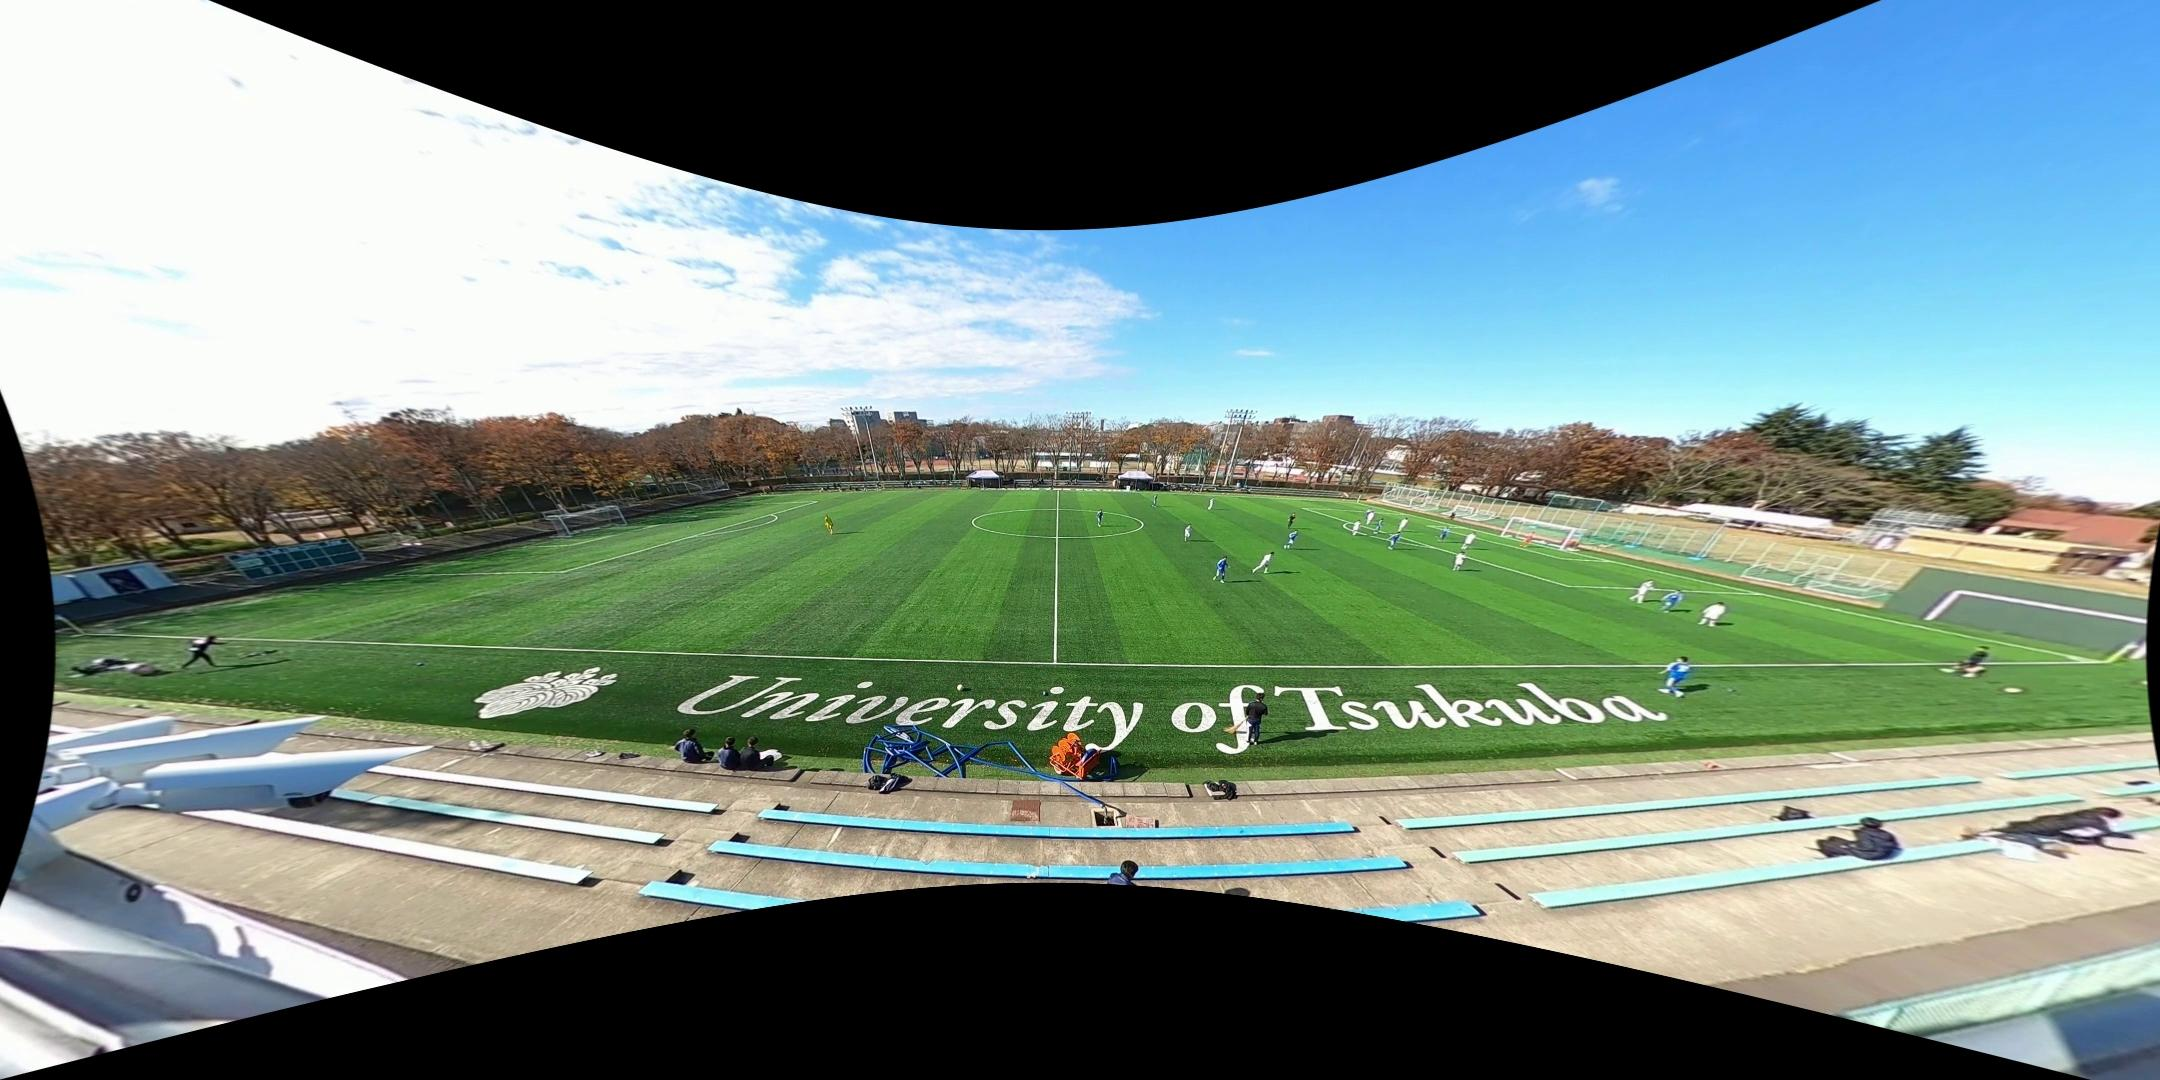person: (1936, 646, 1989, 679), (1658, 655, 1691, 698), (1697, 602, 1728, 627), (1629, 579, 1658, 605), (1660, 589, 1684, 613), (1253, 551, 1275, 574), (1212, 556, 1229, 583), (1451, 551, 1466, 572), (1461, 531, 1477, 550), (1284, 530, 1299, 549), (1519, 532, 1537, 547), (1436, 526, 1451, 543), (1387, 532, 1401, 550), (824, 514, 834, 536), (1183, 523, 1192, 542), (1096, 509, 1105, 528), (1398, 518, 1409, 533), (1352, 520, 1362, 536), (1374, 518, 1383, 533), (1288, 512, 1296, 528), (1207, 497, 1215, 511), (1366, 509, 1374, 522), (1367, 511, 1374, 525), (1151, 494, 1158, 507)
sports ball: (2002, 684, 2025, 699), (1417, 704, 1427, 715), (955, 682, 965, 691)
